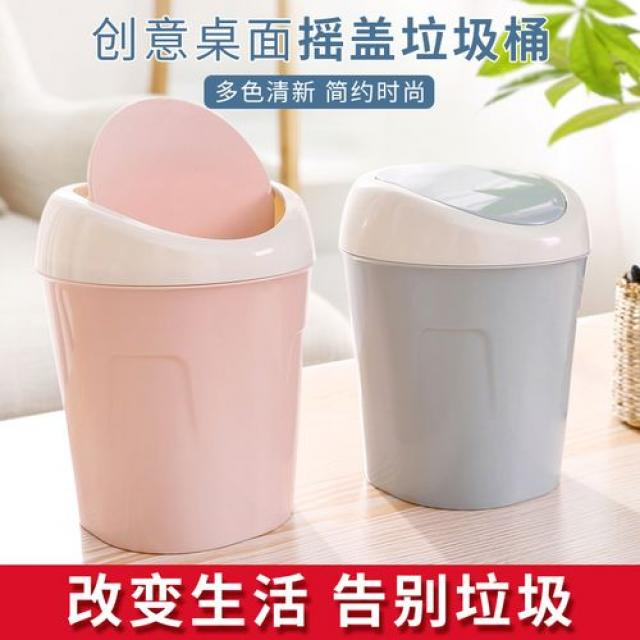Dustbin: (32, 90, 319, 558), (334, 155, 594, 514)
